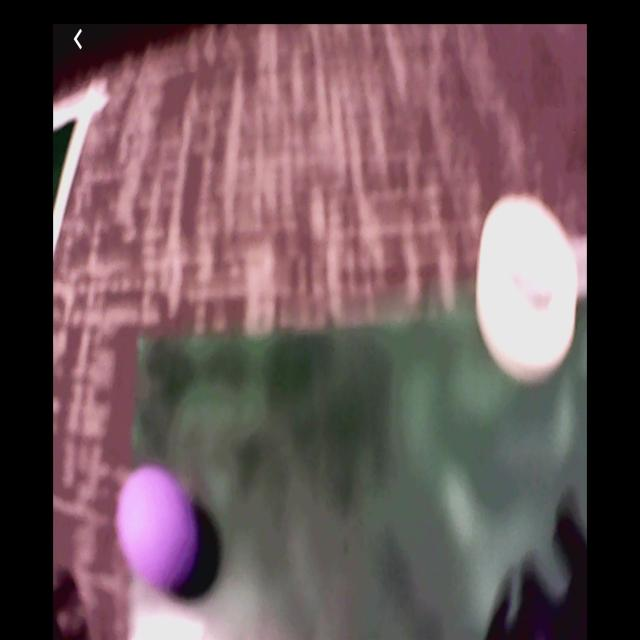ball: (117, 468, 202, 593)
